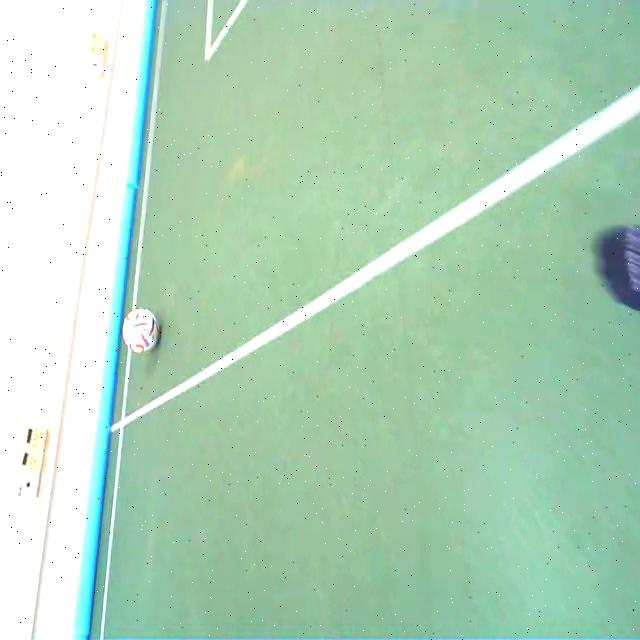ball: (124, 310, 159, 354)
